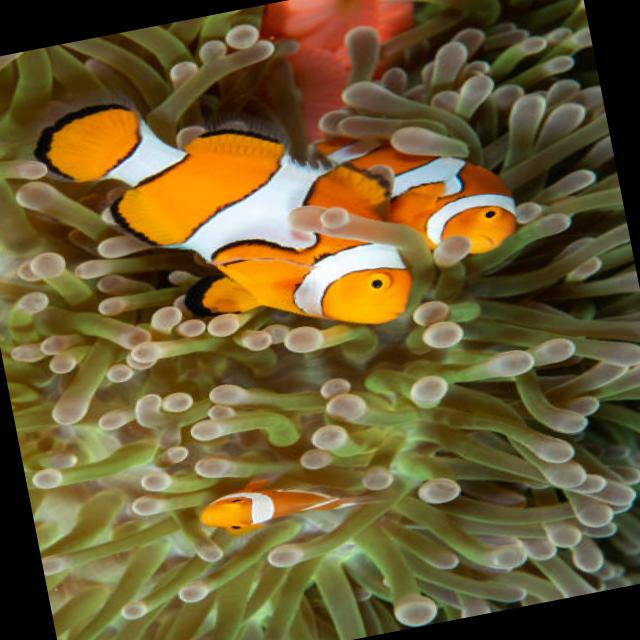ClownFish: (30, 54, 417, 386), (314, 100, 526, 282), (188, 458, 386, 545)
